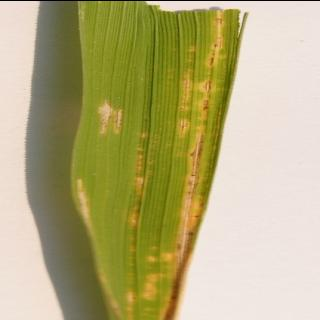Hawar-Daun: (164, 9, 237, 320), (114, 245, 163, 320), (125, 122, 149, 232), (90, 98, 132, 139), (74, 177, 94, 240)
